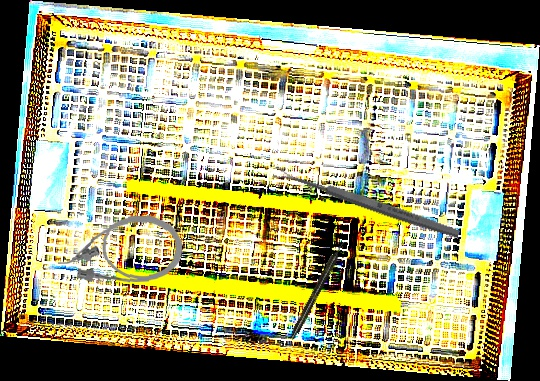Cannula: (55, 213, 184, 287)
Handpiece: (287, 240, 348, 341)
Surgical Spoon: (272, 164, 461, 241)
